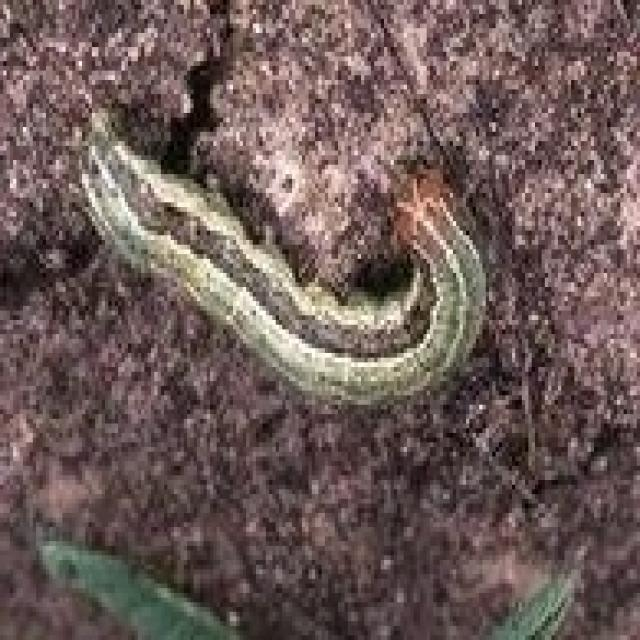army worm: (74, 114, 507, 424)
